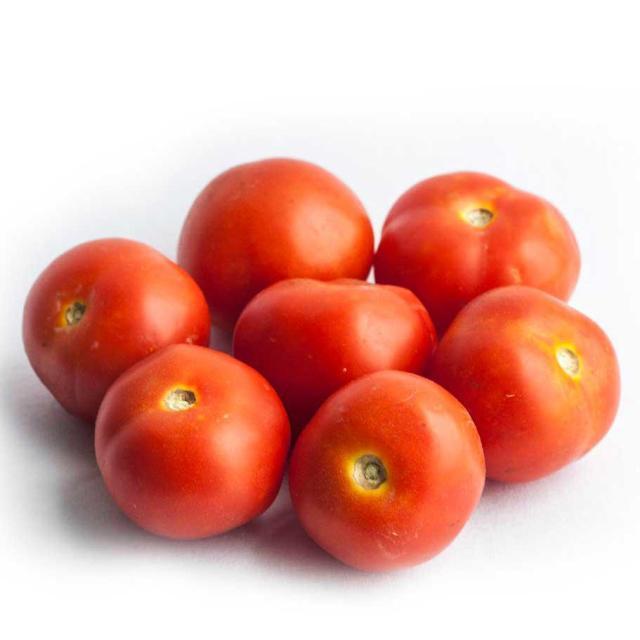Tomato: (293, 371, 482, 574), (447, 287, 627, 493), (88, 350, 285, 534), (379, 167, 587, 304), (22, 234, 204, 386), (185, 160, 375, 297), (238, 269, 435, 365)
